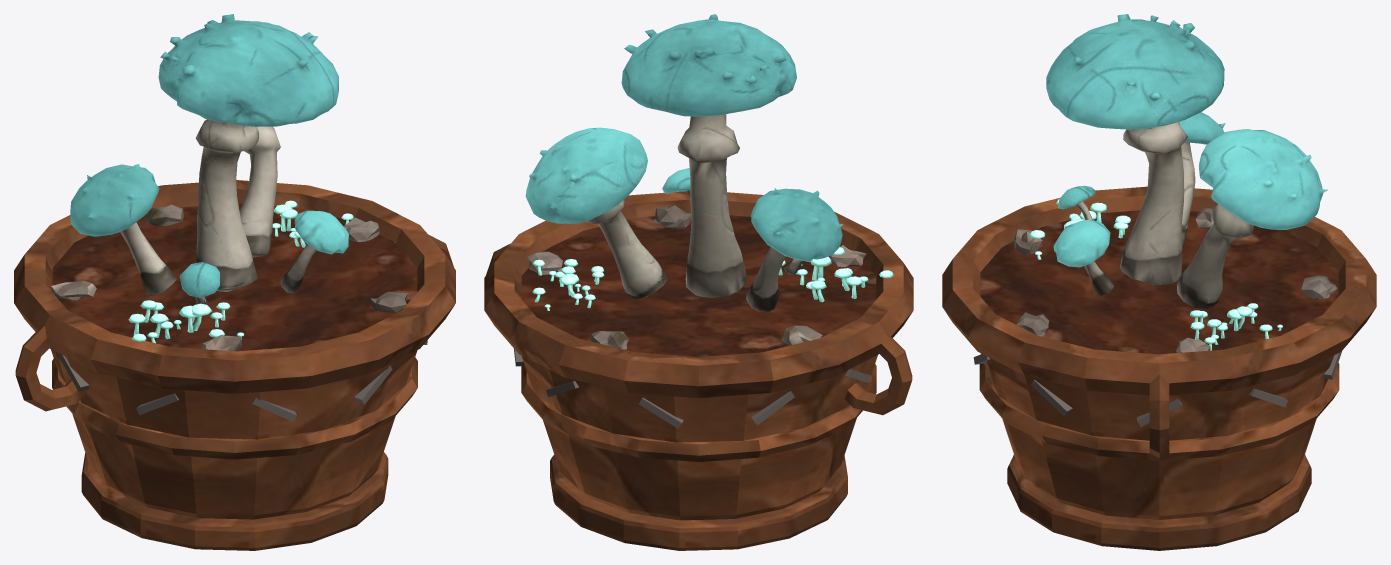
Rendered from glowcap_pot.glb.
3 renders of one model, left to right at view 1: azimuth 30°, elevation 25°; view 2: azimuth 150°, elevation 25°; view 3: azimuth 270°, elevation 25°, orthographic. The views are drawn at different scales.
Visible parts, largest first — view 1: model; view 2: model; view 3: model.
Part boxes in pixels (x1,y1,x2,y2): model: [14, 14, 455, 550]; model: [484, 14, 913, 550]; model: [942, 14, 1376, 550].
Bounding box in the file's own units: 0.524 × 0.5351 × 0.457.
13 materials, 12 textured.
